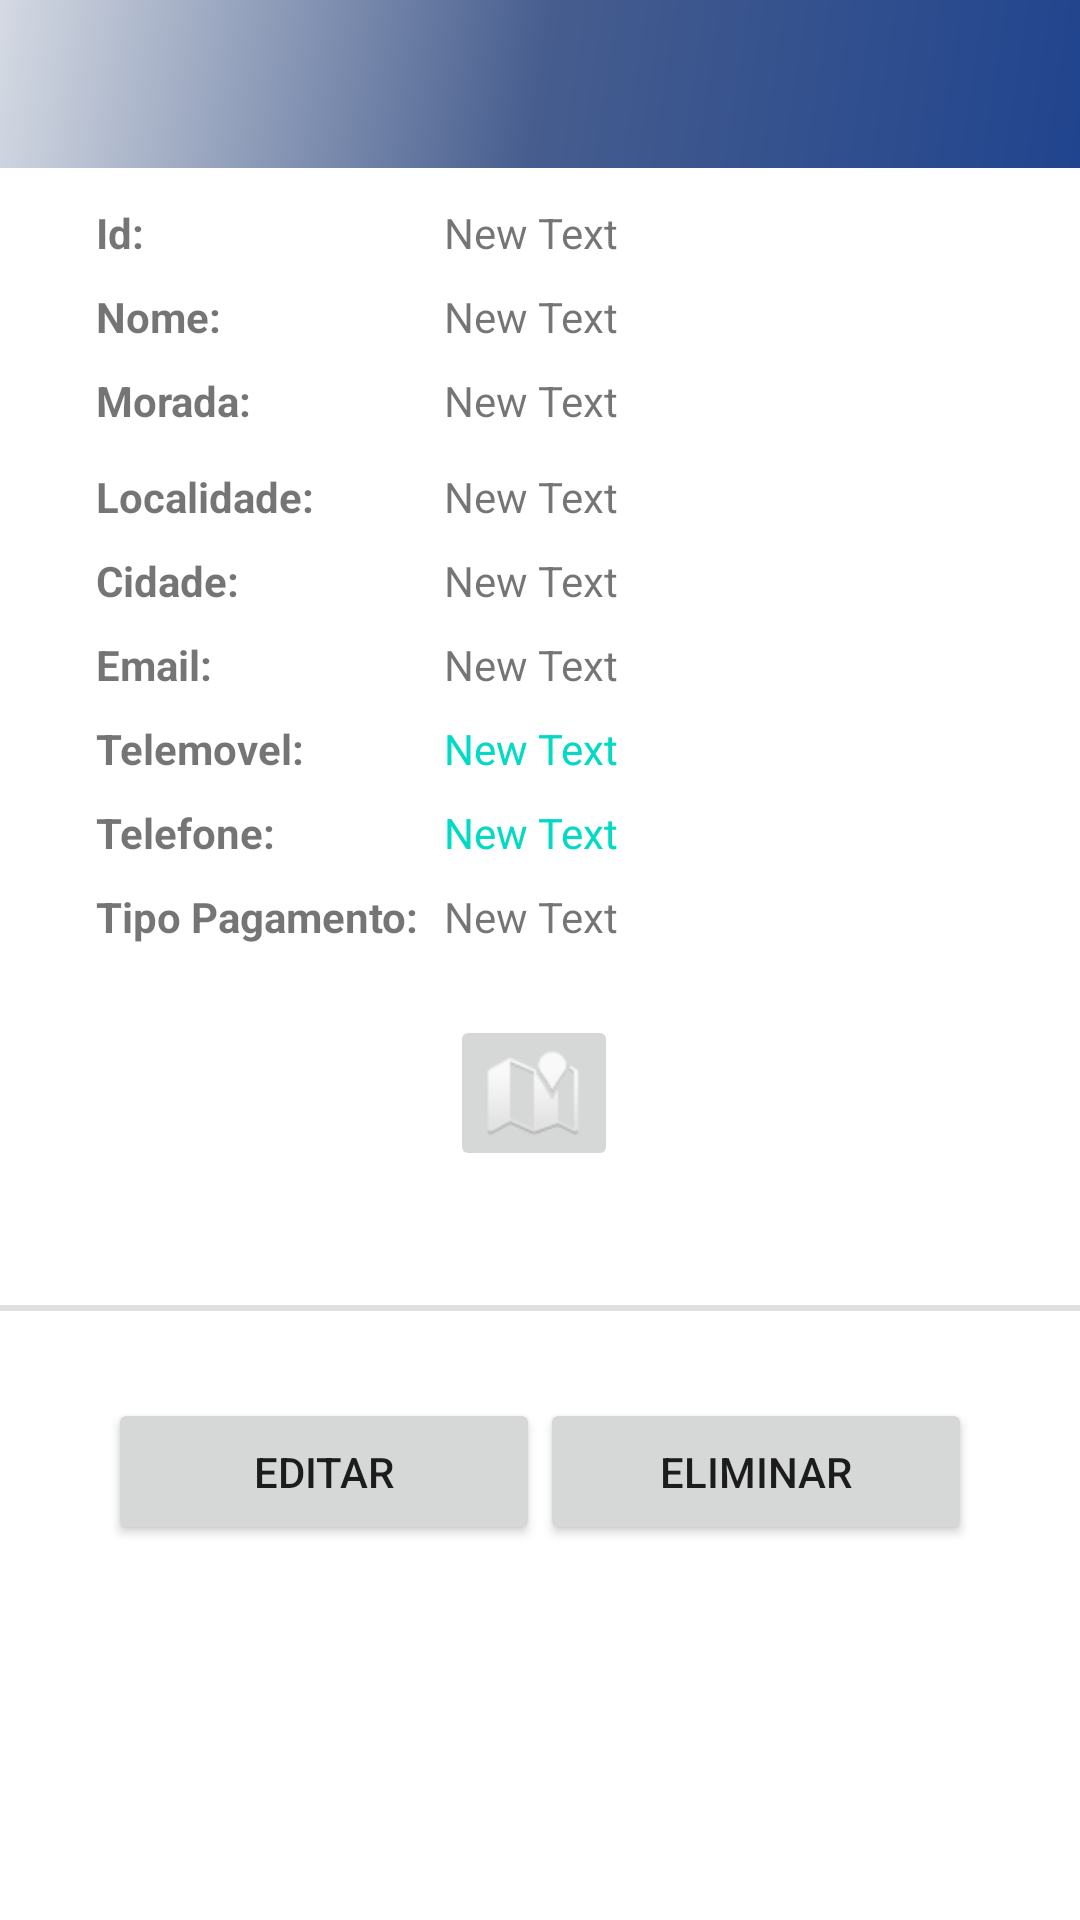

Where to tap for icons on this 1080 x 1920 app screen, as (x,y):
map: (534,1093)
